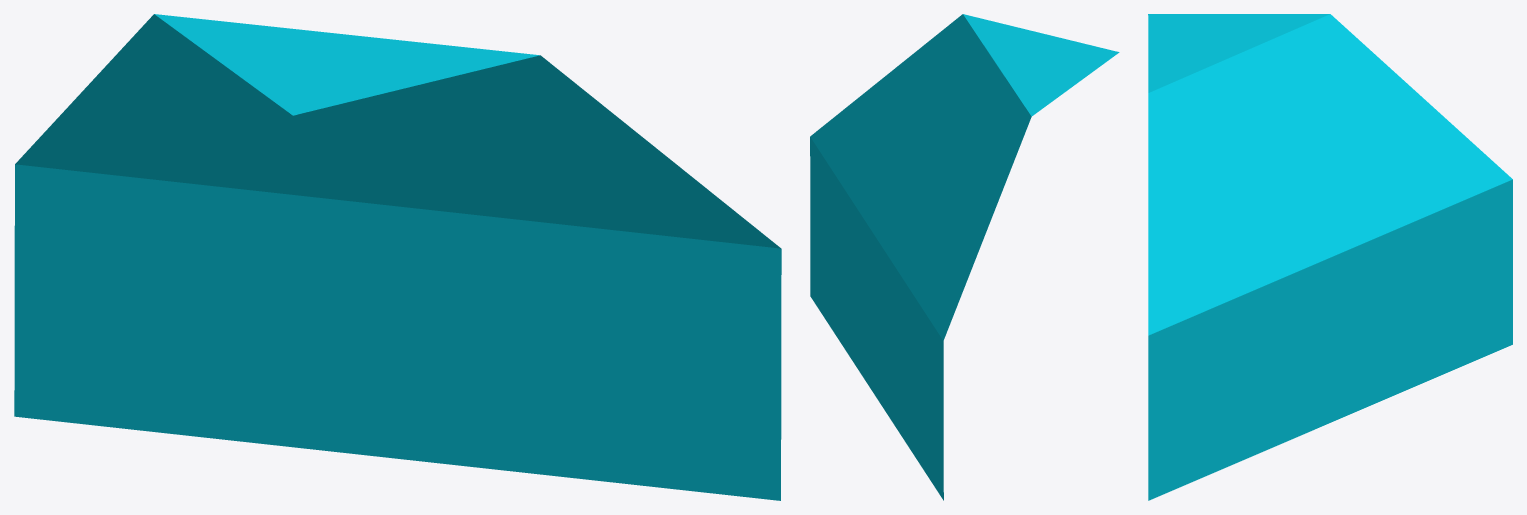
File: hole side corner FLR2.fbx
3 renders of one model, left to right at view 1: azimuth 30°, elevation 25°; view 2: azimuth 150°, elevation 25°; view 3: azimuth 270°, elevation 25°, orthographic. The views are drawn at different scales.
Parts seen in each view (by area): view 1: HoleSide_2_corner_piece; view 2: HoleSide_2_corner_piece; view 3: HoleSide_2_corner_piece.
Part boxes in pixels (x1,y1,x2,y2): HoleSide_2_corner_piece: [14, 14, 781, 500]; HoleSide_2_corner_piece: [810, 14, 1119, 500]; HoleSide_2_corner_piece: [1148, 14, 1512, 500].
Bounding box in the file's own units: 0.5074 × 0.5 × 0.5.
